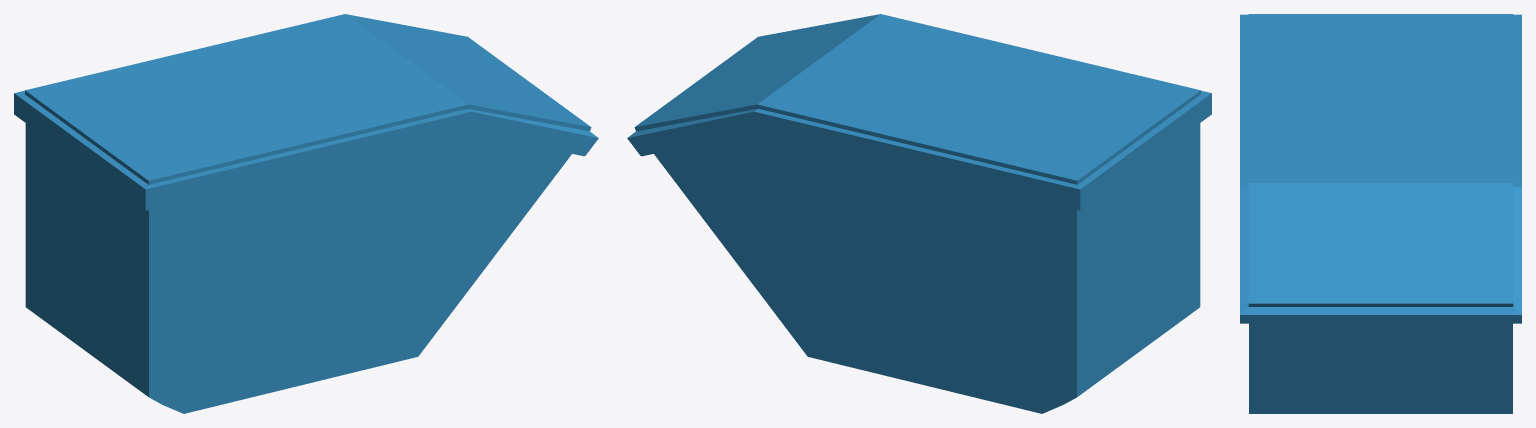
3 views of the same model, side by side, from view 1: azimuth 30°, elevation 25°; view 2: azimuth 150°, elevation 25°; view 3: azimuth 270°, elevation 25° (orthographic). The views are drawn at different scales.
Visible parts, largest first — view 1: Cube_4; view 2: Cube_4; view 3: Cube_4.
Boxes of the visible parts, bbox=[...] form: Cube_4: bbox=[14, 14, 598, 413]; Cube_4: bbox=[627, 14, 1211, 413]; Cube_4: bbox=[1240, 14, 1521, 413].
Size of the model in its own units: 394 by 201 by 198.
